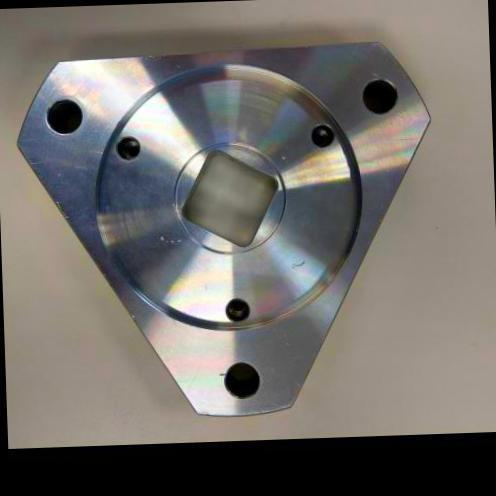hole: (357, 73, 401, 118), (221, 358, 263, 402), (42, 95, 85, 137), (109, 132, 142, 164), (222, 295, 252, 326), (308, 121, 336, 150)
